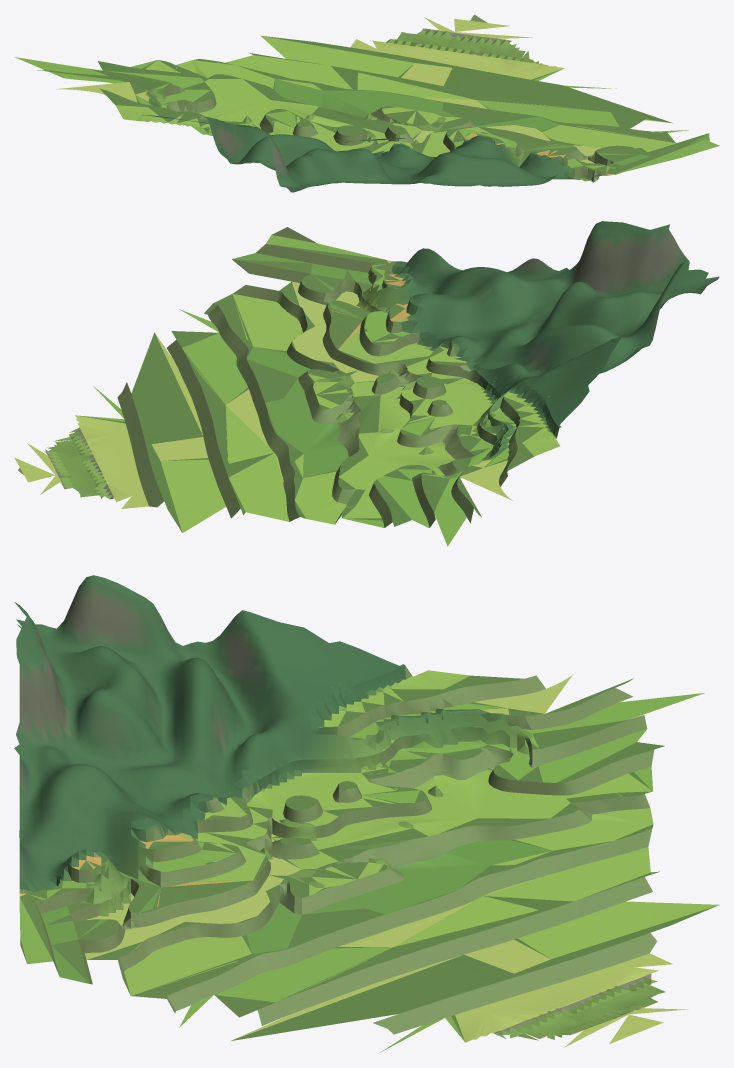
File: payo_land_xm4_y8.glb
3 views of the same model, one above another, from view 1: azimuth 30°, elevation 25°; view 2: azimuth 150°, elevation 25°; view 3: azimuth 270°, elevation 25° (orthographic). The views are drawn at different scales.
Visible parts, largest first — view 1: payo_land_xm4_y8; view 2: payo_land_xm4_y8; view 3: payo_land_xm4_y8.
Part boxes in pixels (x1,y1,x2,y2): payo_land_xm4_y8: (14,14,719,192); payo_land_xm4_y8: (14,221,719,546); payo_land_xm4_y8: (14,575,719,1052).
Size of the model in its own units: 288 by 88.08 by 285.
